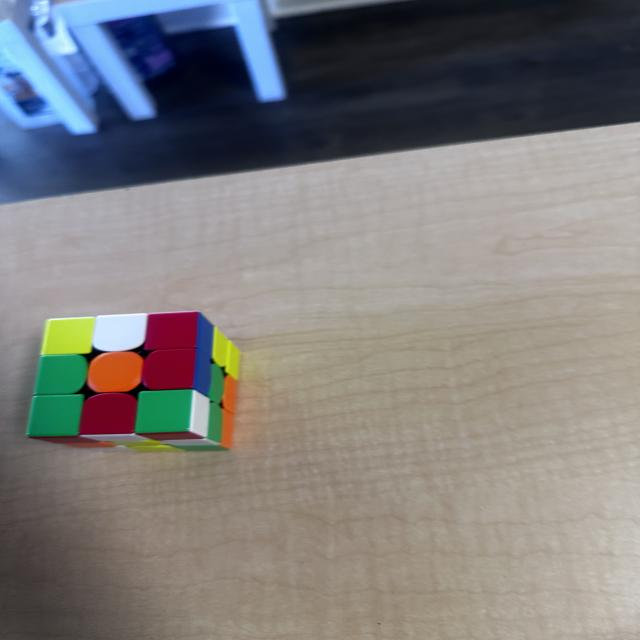sticker: (136, 388, 212, 440), (158, 399, 229, 448), (78, 392, 140, 438), (25, 393, 87, 438), (141, 347, 197, 393), (86, 350, 144, 394), (143, 310, 202, 352), (90, 312, 149, 354), (33, 353, 90, 396), (40, 316, 97, 358), (192, 341, 213, 398), (212, 326, 234, 372), (204, 400, 224, 444), (222, 338, 241, 380), (218, 405, 236, 449), (207, 362, 225, 405), (221, 374, 238, 414), (118, 440, 175, 451), (57, 438, 116, 448)
